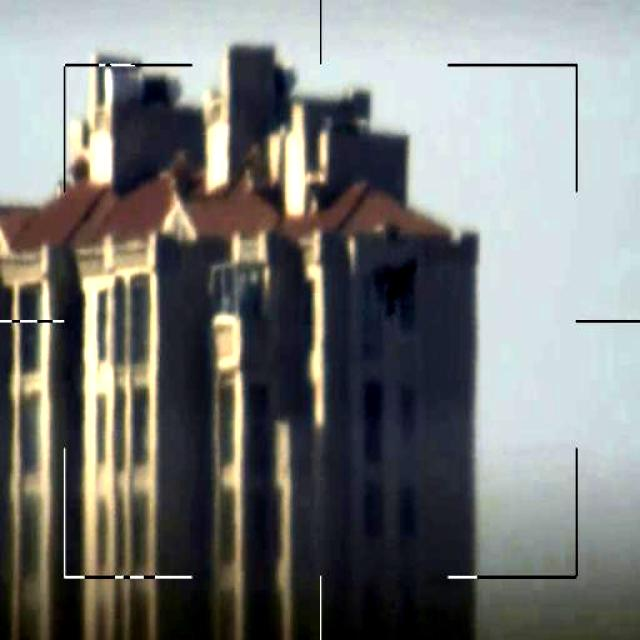bird: (371, 250, 424, 322)
